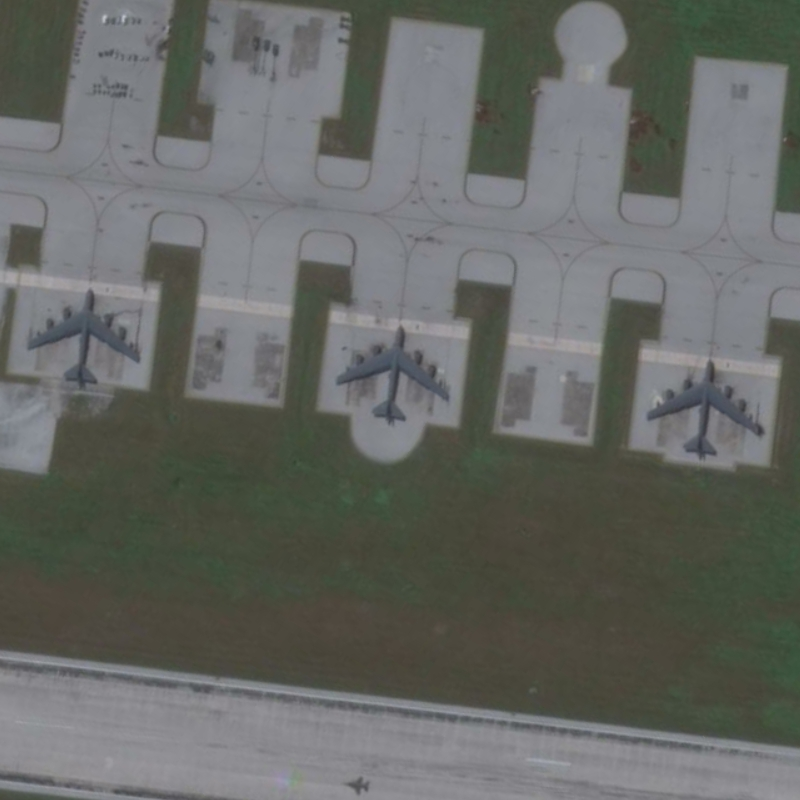A8: (642, 356, 766, 460), (23, 285, 145, 390), (330, 323, 454, 424)
